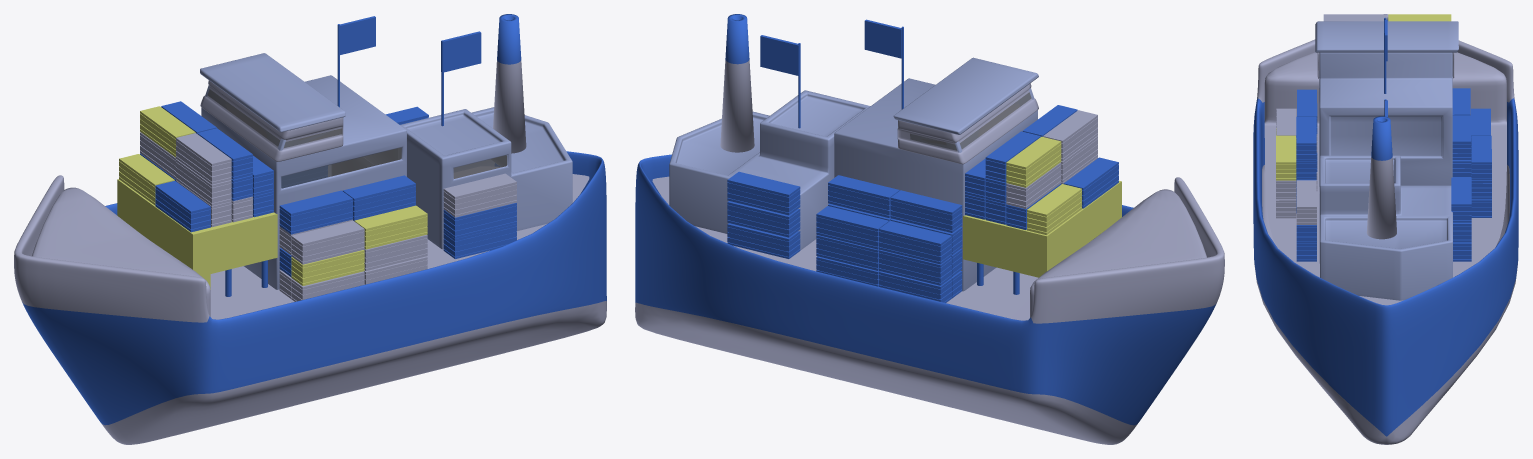
Rendered from Ship.fbx.
The picture shows the model from 3 angles, left to right: view 1: azimuth 30°, elevation 25°; view 2: azimuth 150°, elevation 25°; view 3: azimuth 270°, elevation 25°; orthographic projection. The views are drawn at different scales.
Parts seen in each view (by area): view 1: Cube.001; view 2: Cube.001; view 3: Cube.001.
Boxes of the visible parts, x1,y1,x2,y2 form: Cube.001: (14,14,606,444); Cube.001: (635,14,1224,444); Cube.001: (1253,14,1518,444).
Size of the model in its own units: 382 by 228 by 169.
